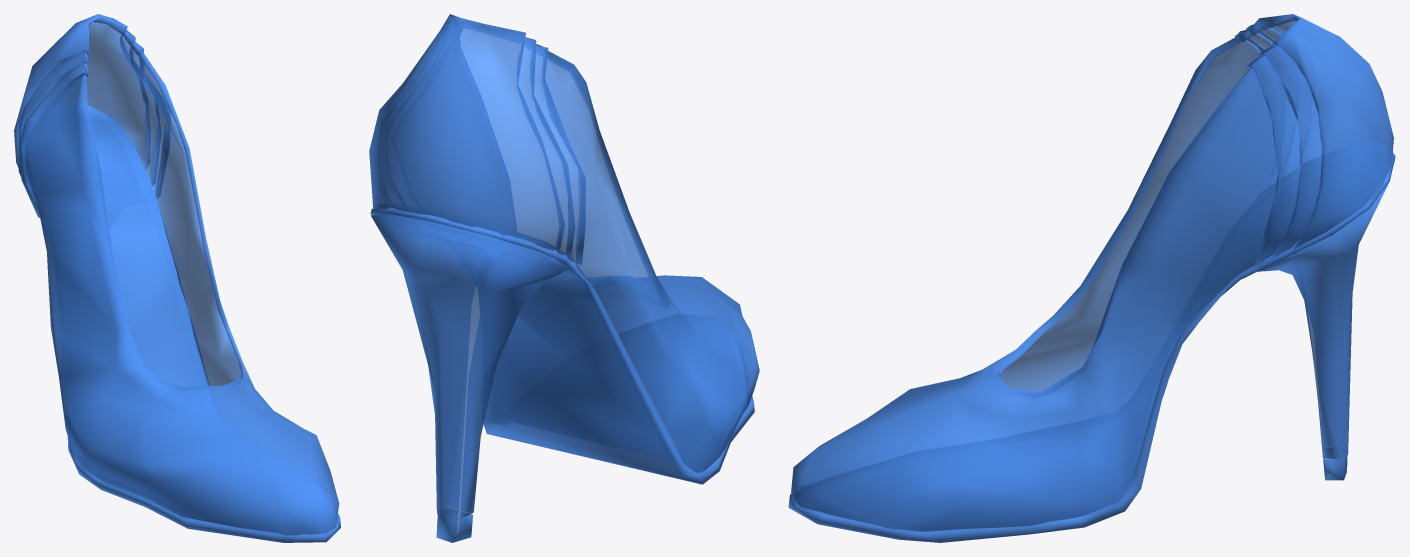
File: shoe.fbx
The picture shows the model from 3 angles, left to right: view 1: azimuth 30°, elevation 25°; view 2: azimuth 150°, elevation 25°; view 3: azimuth 270°, elevation 25°; orthographic projection. The views are drawn at different scales.
Parts seen in each view (by area): view 1: shoe; view 2: shoe; view 3: shoe.
Part boxes in pixels (box(x1,y1,x2,y2)): shoe: box(14, 14, 340, 542); shoe: box(369, 14, 759, 542); shoe: box(788, 14, 1395, 542).
Size of the model in its own units: 20.03 by 39.2 by 44.75.
